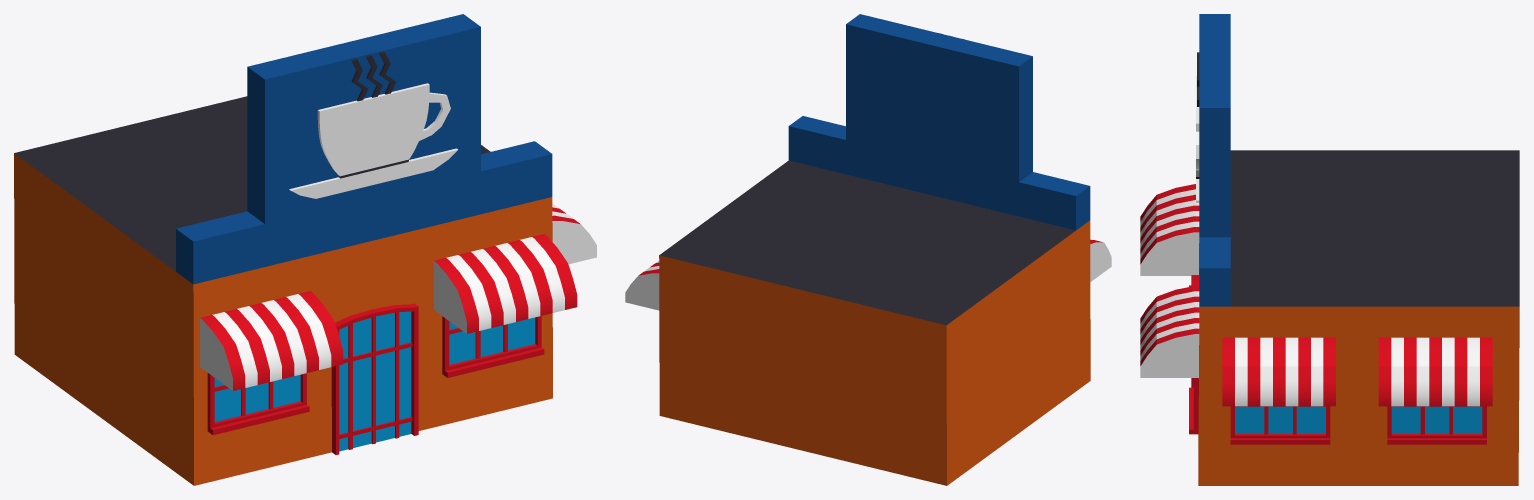
File: Building_08.fbx
The picture shows the model from 3 angles, left to right: view 1: azimuth 30°, elevation 25°; view 2: azimuth 150°, elevation 25°; view 3: azimuth 270°, elevation 25°; orthographic projection. The views are drawn at different scales.
Parts seen in each view (by area): view 1: B8; view 2: B8; view 3: B8.
Boxes of the visible parts, x1=… form: B8: x1=14, y1=14, x2=596, y2=485; B8: x1=625, y1=14, x2=1111, y2=485; B8: x1=1140, y1=14, x2=1519, y2=485.
Bounding box in the file's own units: 15.08 × 13.45 × 13.34.
1 material, 1 textured.
